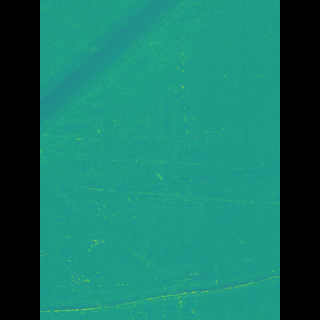Loch: (67, 0, 196, 179), (127, 46, 198, 320), (68, 261, 250, 319), (69, 155, 250, 212)
